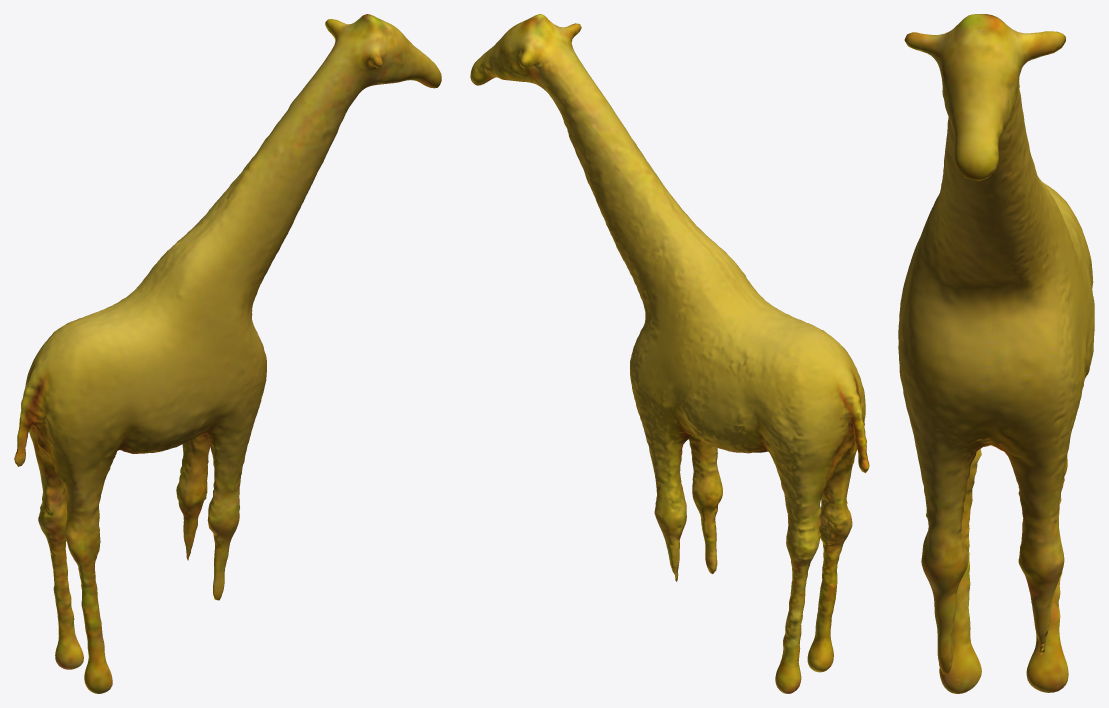
3 views of the same model, side by side, from view 1: azimuth 30°, elevation 25°; view 2: azimuth 150°, elevation 25°; view 3: azimuth 270°, elevation 25° (orthographic). The views are drawn at different scales.
Parts seen in each view (by area): view 1: Mesh1; view 2: Mesh1; view 3: Mesh1.
Part boxes in pixels (x1,y1,x2,y2): Mesh1: (14, 14, 441, 693); Mesh1: (470, 14, 869, 693); Mesh1: (898, 14, 1094, 693).
Bounding box in the file's own units: 0.8605 × 1.2 × 0.2442.
Materials: 1 (1 with a texture image).
